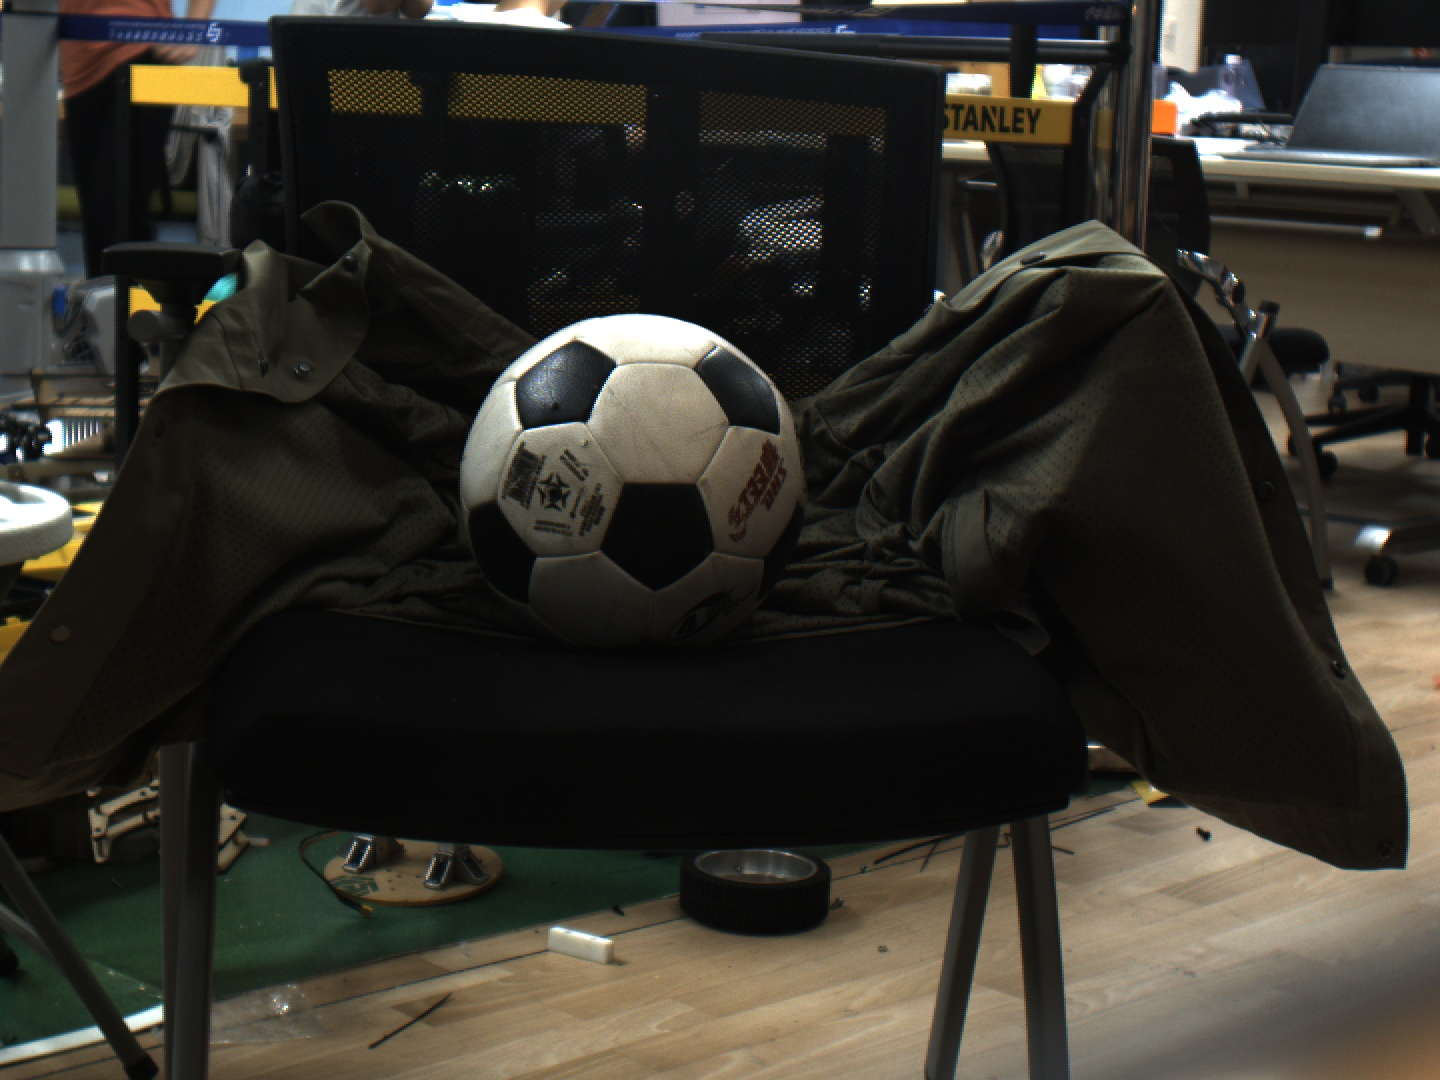ball: (420, 275, 848, 666)
